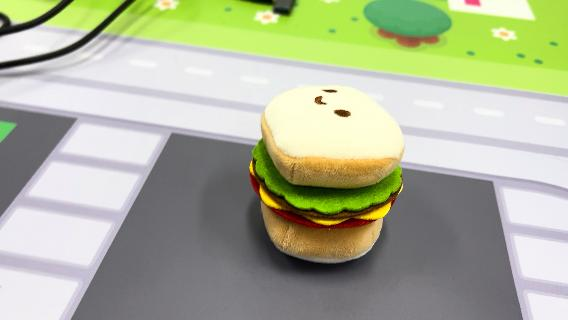sandwich: (246, 82, 408, 266)
